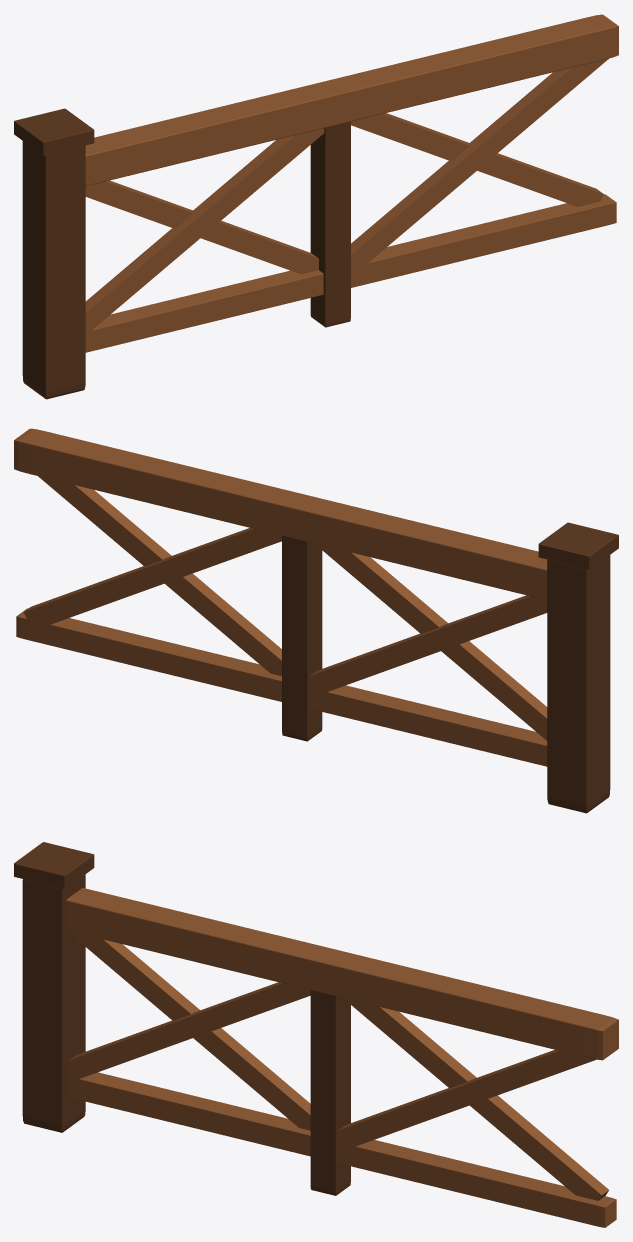
File: fence.glb
3 renders of one model, top to bottom at view 1: azimuth 30°, elevation 25°; view 2: azimuth 150°, elevation 25°; view 3: azimuth 330°, elevation 25°, orthographic.
Parts seen in each view (by area): view 1: fence; view 2: fence; view 3: fence.
Part boxes in pixels (x1,y1,x2,y2): fence: [14, 14, 618, 399]; fence: [14, 428, 618, 813]; fence: [14, 842, 618, 1227].
Bounding box in the file's own units: 3.16 × 1.36 × 0.28.
